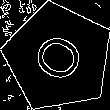O_SE: (26, 27, 91, 88)
